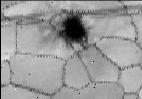good_void: (56, 11, 89, 51)
